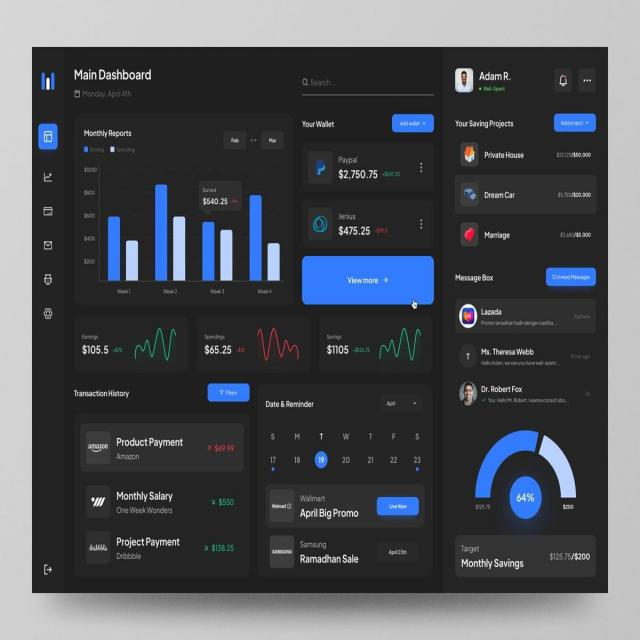button: (546, 268, 596, 288), (392, 113, 435, 134), (377, 497, 419, 517), (208, 383, 250, 402), (554, 113, 596, 132)
